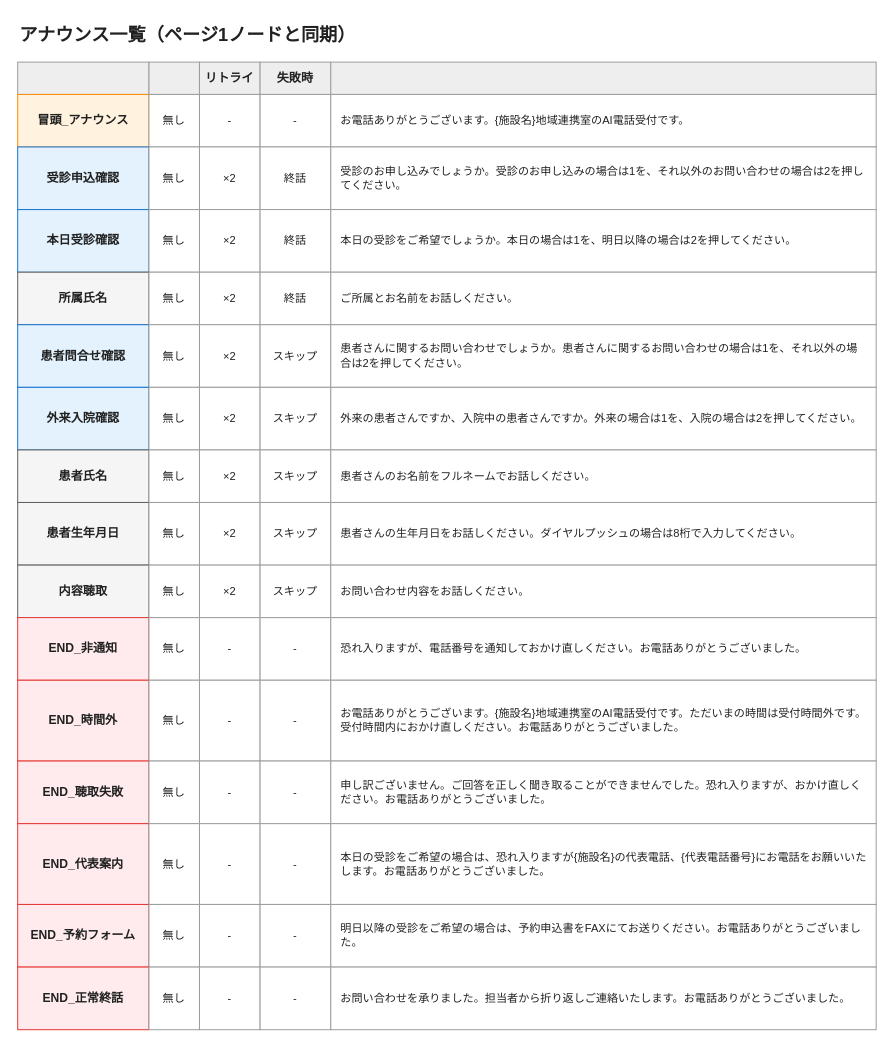
The diagram is 894 pixels wide and 1047 high, and some of its shapes have lost their labels. The centre of each missing label's shape, as x and y in pixels:
"復唱" goes at [173,77].
"発話文言" goes at [603,77].
"聴取項目" goes at [83,77].
